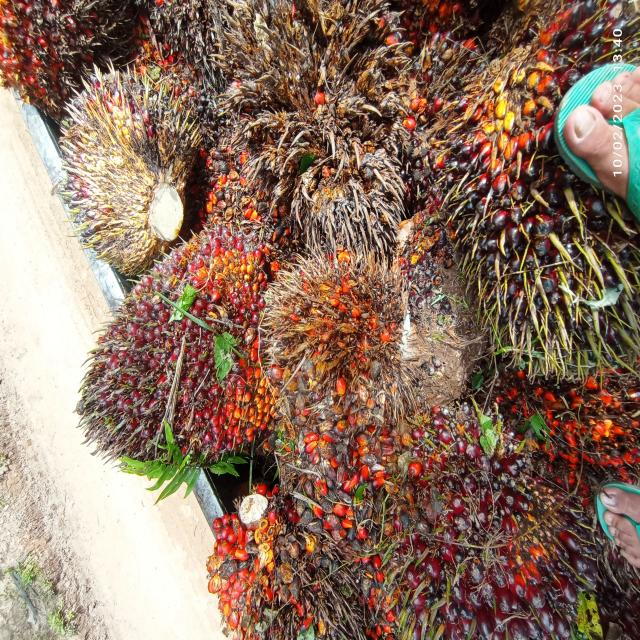fraksi 00: (431, 0, 640, 390)
fraksi 1: (351, 405, 623, 640)
fraksi 3: (55, 204, 320, 482), (185, 502, 367, 640)
fraksi 4: (262, 233, 464, 448), (512, 350, 640, 489)
